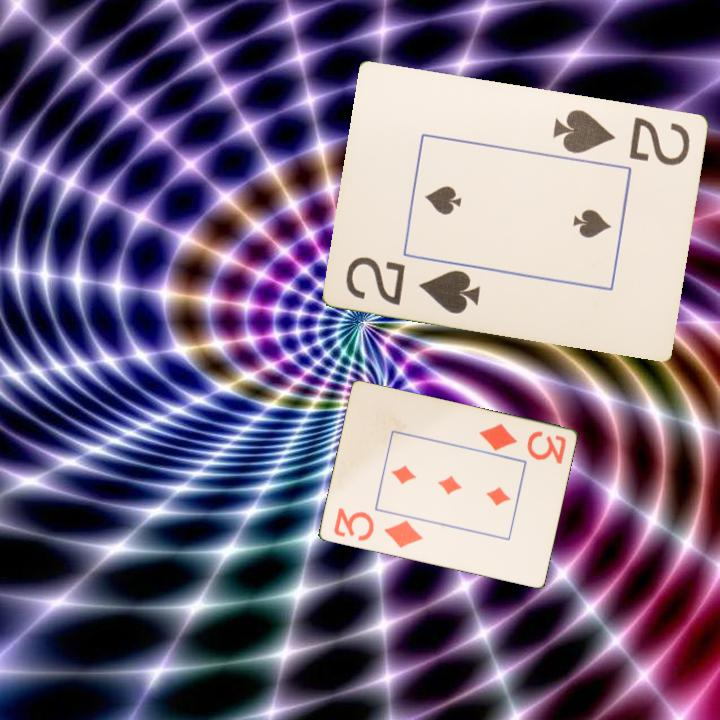2s: (342, 252, 484, 317), (550, 105, 694, 169)
3d: (330, 504, 425, 551), (475, 420, 569, 467)
